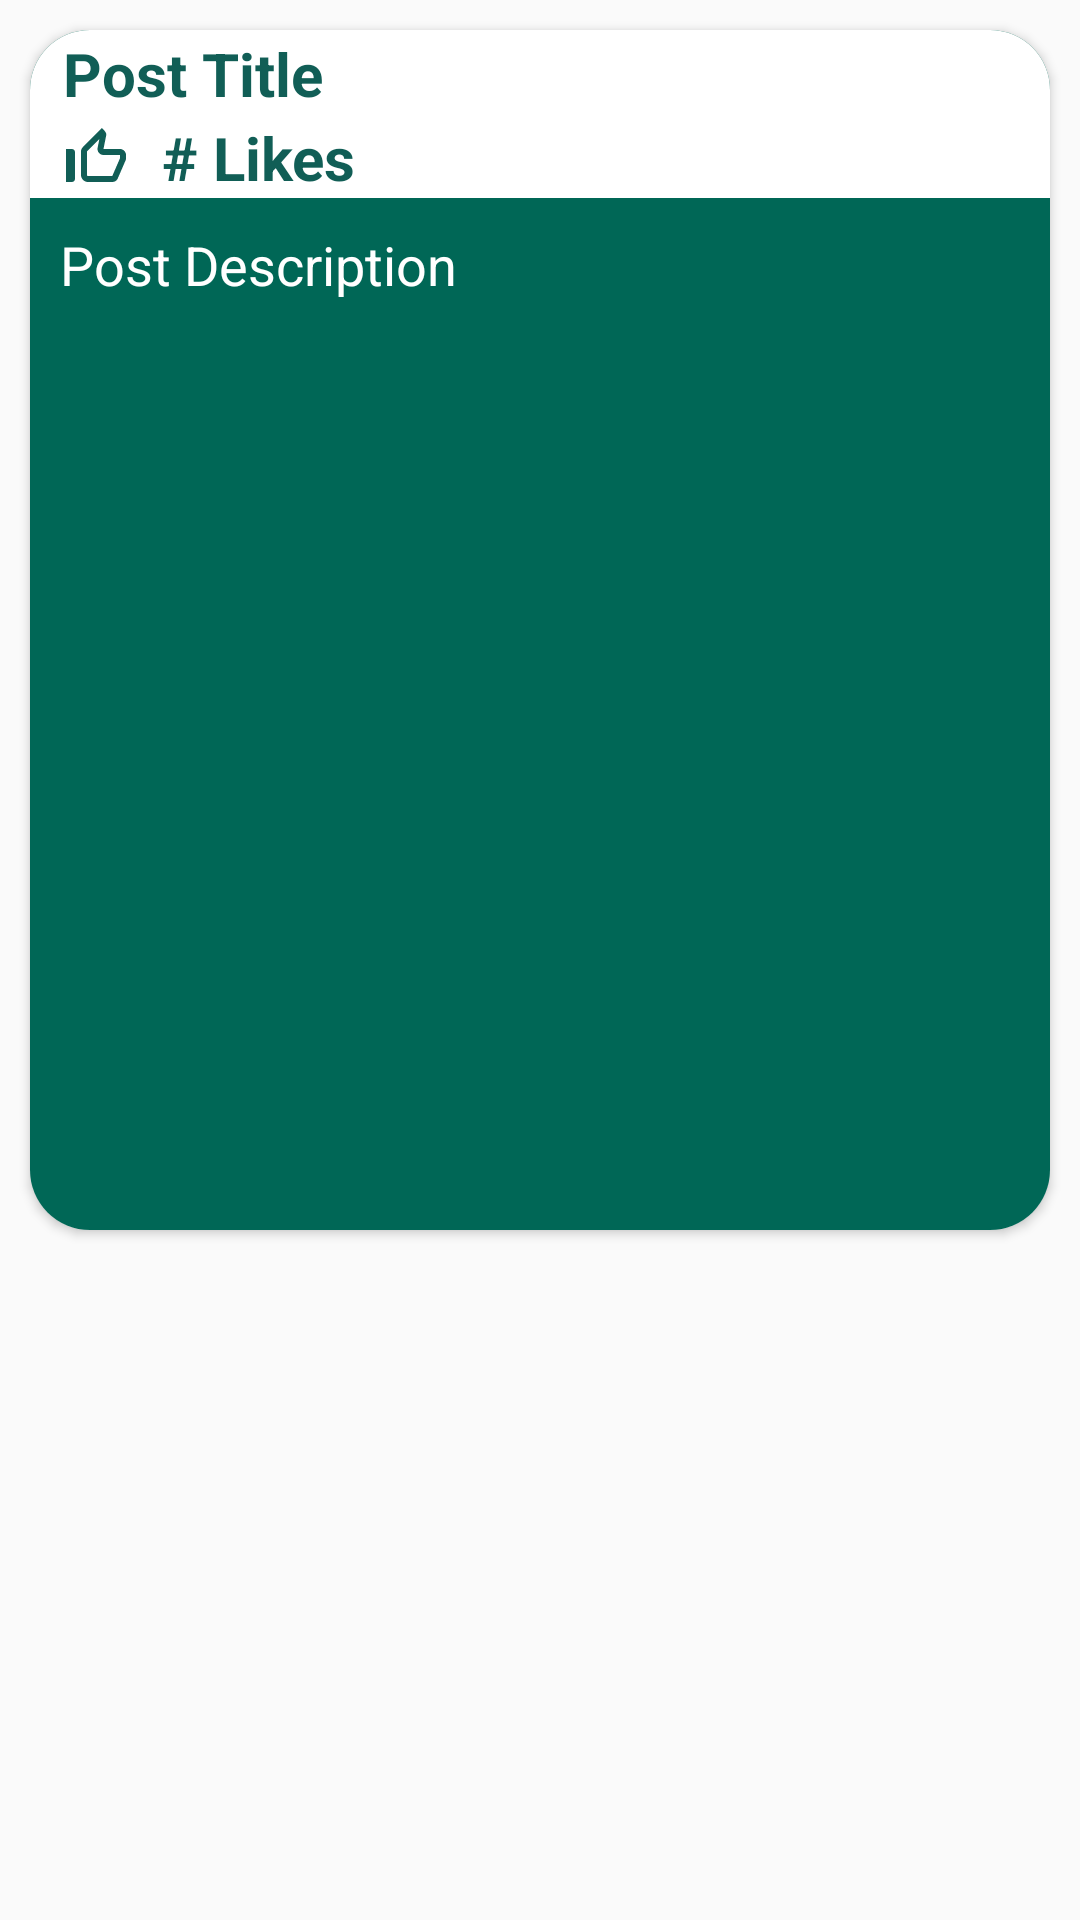

Screen size 1080×1920. Icon name, then its box in pixels as (x1, y1, x2, y2):
thumb up: (66, 128, 126, 182)
